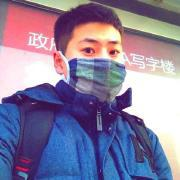OK: (65, 37, 123, 95)
